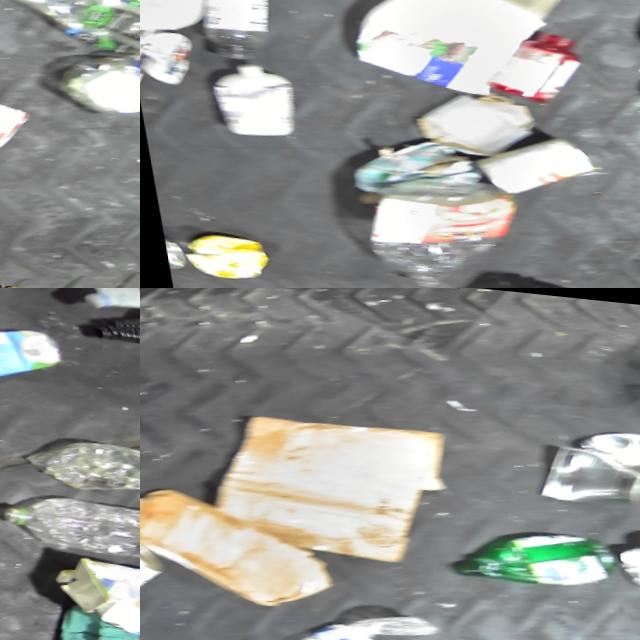can: (462, 116, 599, 196), (525, 425, 640, 504), (172, 224, 264, 286), (573, 411, 640, 462), (0, 67, 29, 159), (609, 510, 640, 585), (140, 532, 167, 603), (153, 229, 178, 270)
plastic_bottle: (345, 156, 526, 288), (0, 463, 140, 570), (7, 412, 140, 493), (256, 592, 444, 640), (0, 0, 140, 60)
